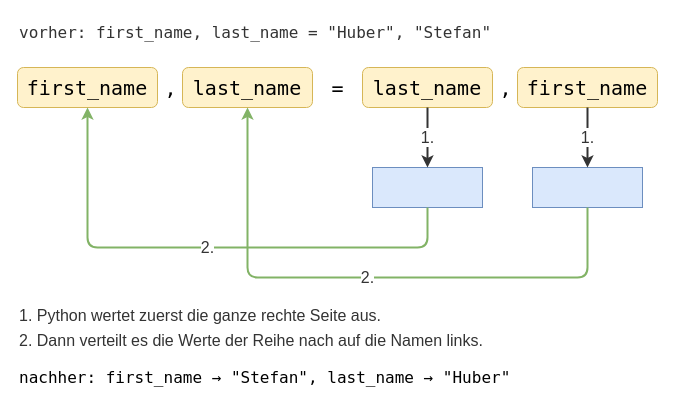
The diagram is 675 pixels wide and 409 high, and some of its shapes have lost their labels. Here are the shapes that lost their labels. From the top down, the box of each, then its label:
(372, 166, 482, 208): "Stefan"
(532, 166, 642, 208): "Huber"
